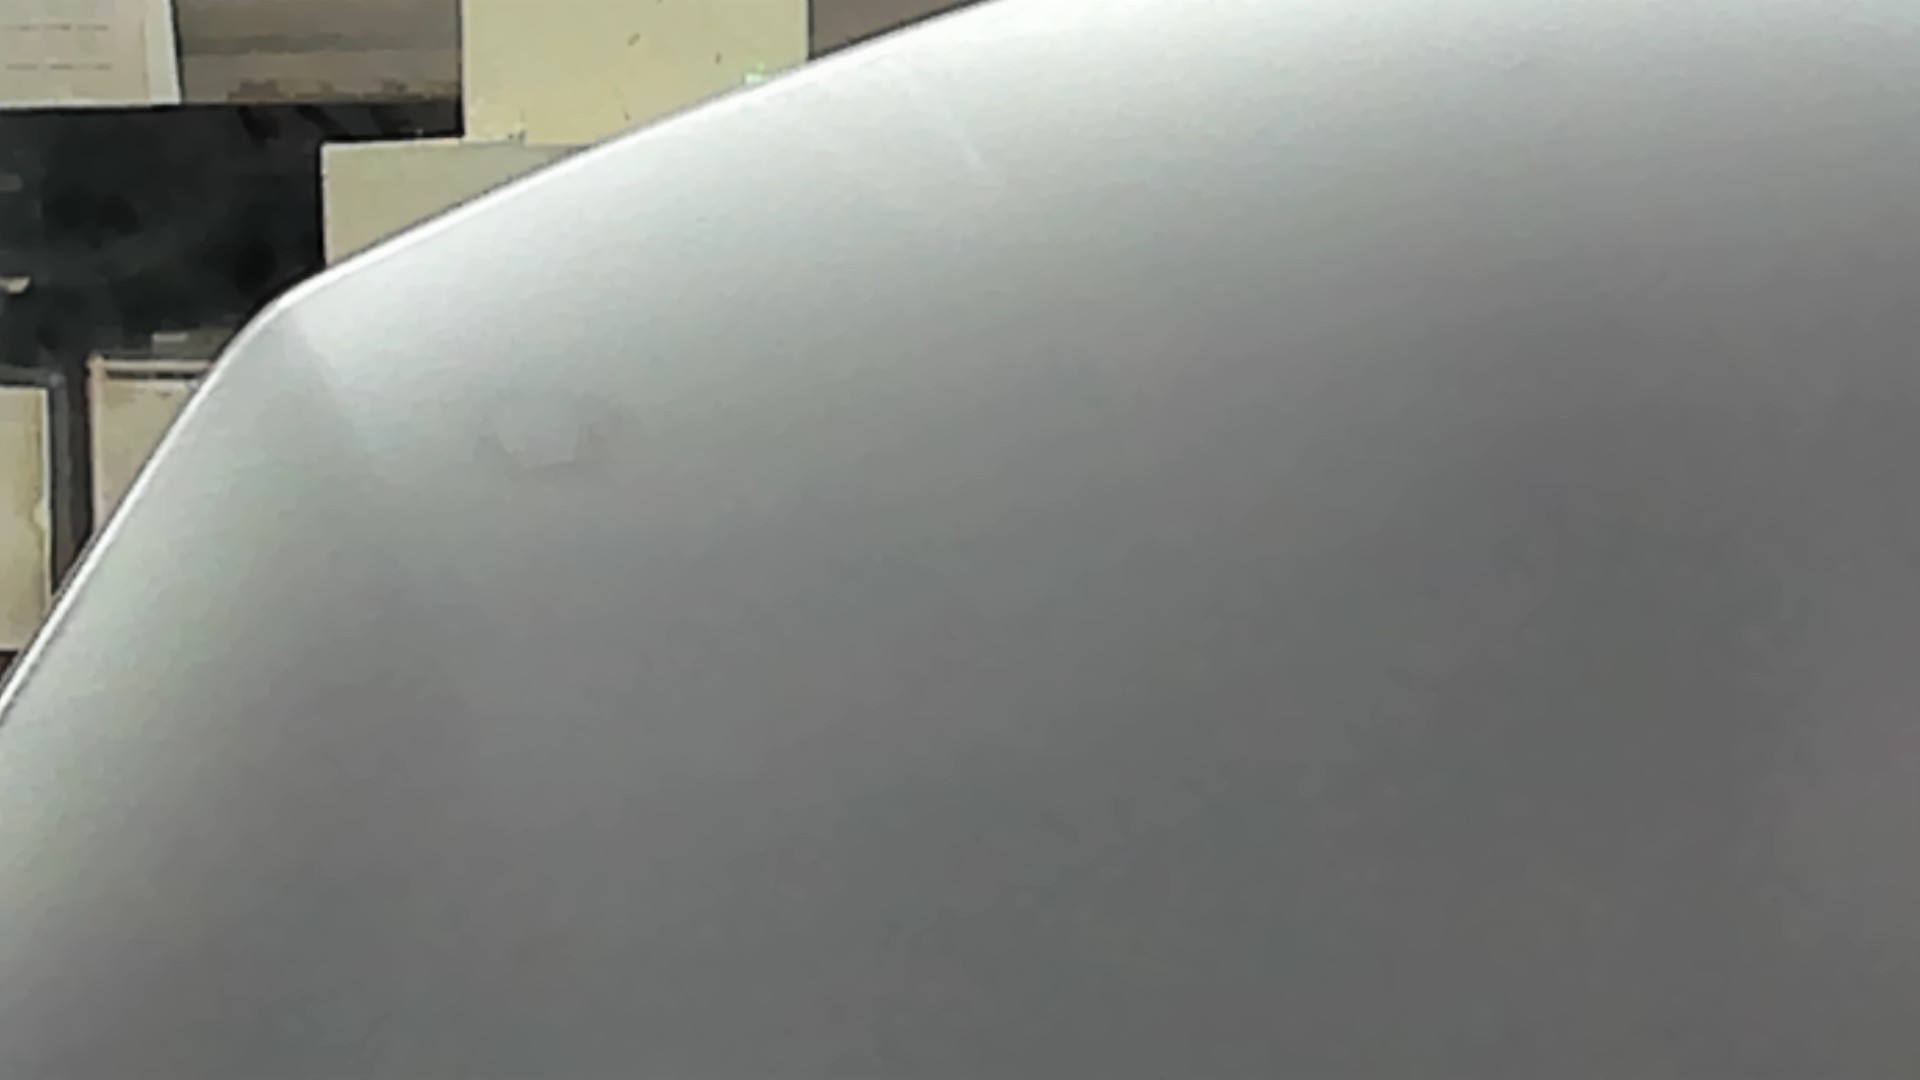capo: (525, 193, 1920, 1080)
